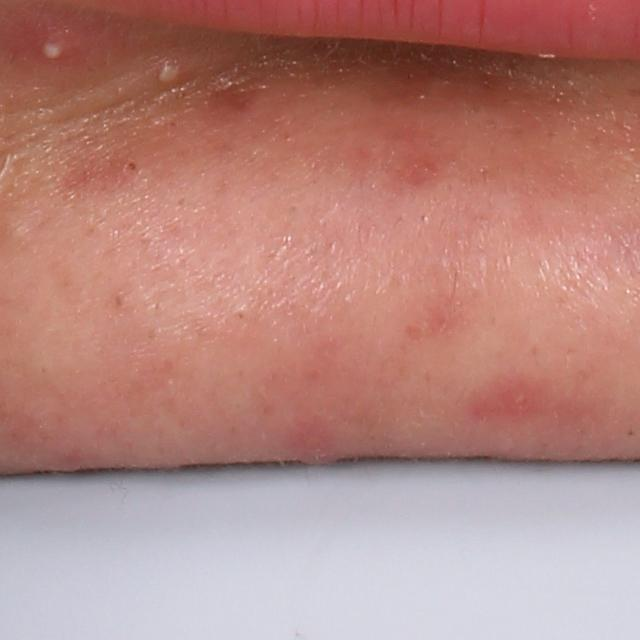comedo: (2, 210, 32, 240), (119, 156, 143, 179), (236, 306, 251, 323)
pustule: (151, 53, 196, 99)
